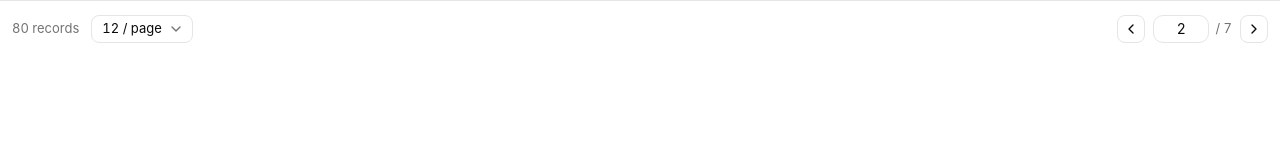
Test: restores the current page for invalid input
Clear the field named "Current page" at (1181, 28), box left=1153, top=14, right=1209, bottom=42
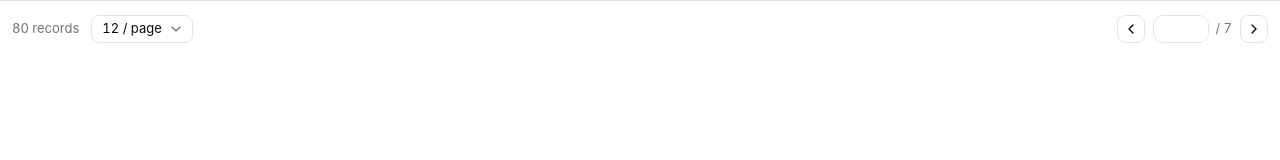
Leave the field named "Current page", box left=1153, top=14, right=1209, bottom=42
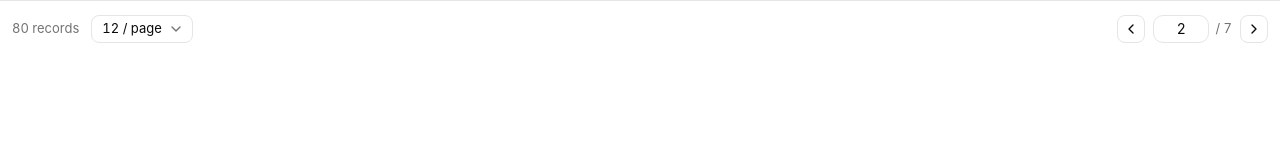
expect the field named "Current page" holds "2": met, box left=1153, top=14, right=1209, bottom=42
